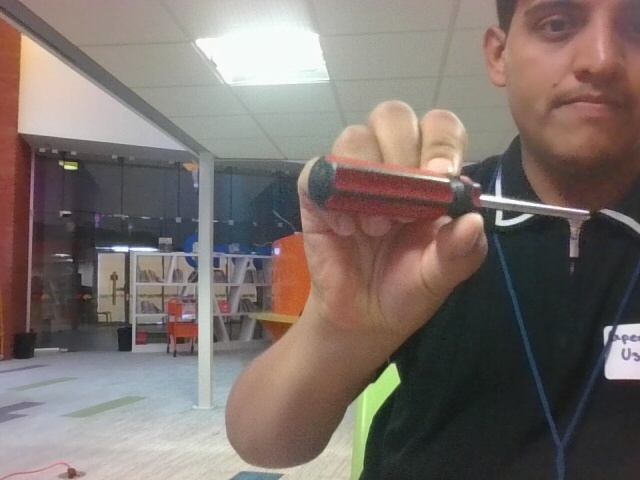destornillador: (308, 154, 594, 228)
